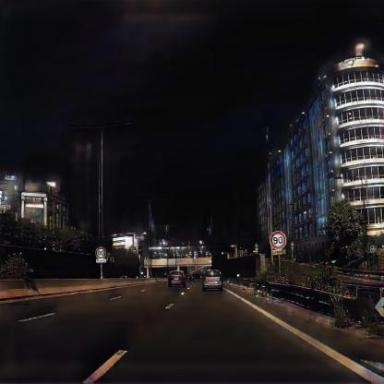Speed_limit_90: (271, 232, 286, 249), (97, 248, 106, 258)
